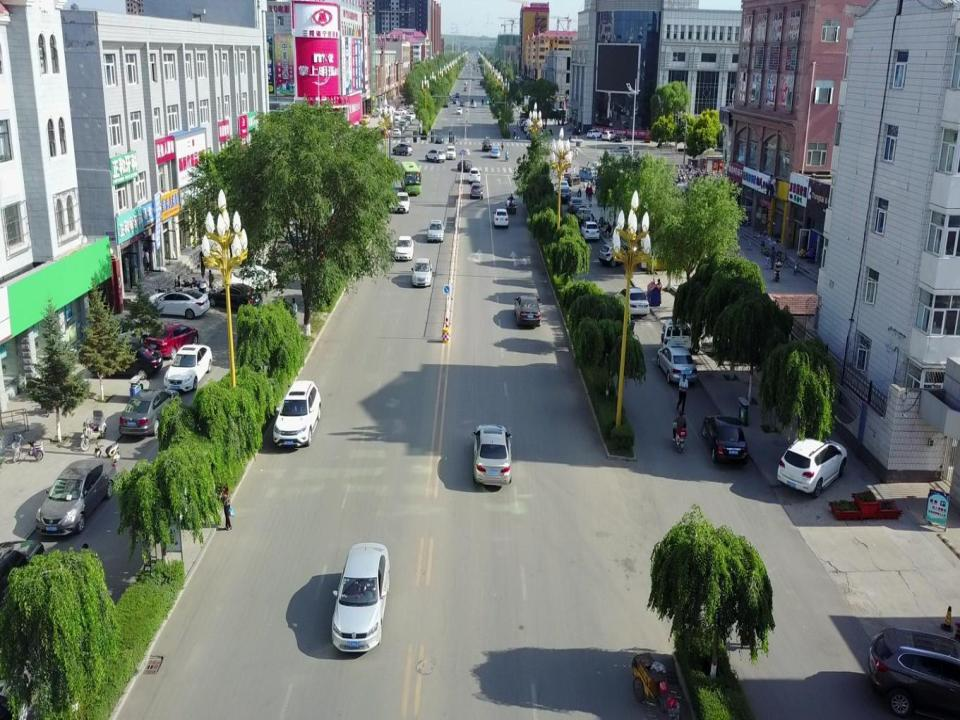bus: (399, 160, 423, 196)
car: (868, 626, 960, 720), (332, 543, 390, 651), (36, 458, 116, 534), (777, 430, 847, 499), (0, 539, 46, 627), (273, 380, 321, 447), (119, 388, 180, 436), (88, 342, 162, 380), (471, 422, 512, 483), (702, 413, 748, 466), (164, 342, 212, 392), (88, 315, 152, 351), (139, 287, 210, 318), (145, 321, 198, 359), (657, 343, 696, 387), (206, 282, 262, 312), (224, 265, 277, 291), (616, 287, 650, 321), (599, 239, 636, 266), (514, 296, 540, 324), (411, 257, 433, 286), (394, 236, 414, 259), (427, 219, 445, 242), (580, 221, 600, 240), (392, 192, 410, 213), (493, 207, 509, 226), (426, 148, 446, 162), (392, 142, 413, 155), (567, 197, 584, 212), (610, 144, 632, 155), (575, 208, 590, 224), (470, 182, 484, 198), (558, 186, 570, 204), (468, 168, 481, 184), (458, 159, 474, 171), (587, 128, 602, 139), (601, 131, 617, 140), (482, 140, 494, 152), (445, 146, 456, 159), (490, 145, 500, 158), (358, 114, 370, 124), (435, 134, 444, 144), (455, 106, 463, 115)
van: (661, 319, 703, 353)
